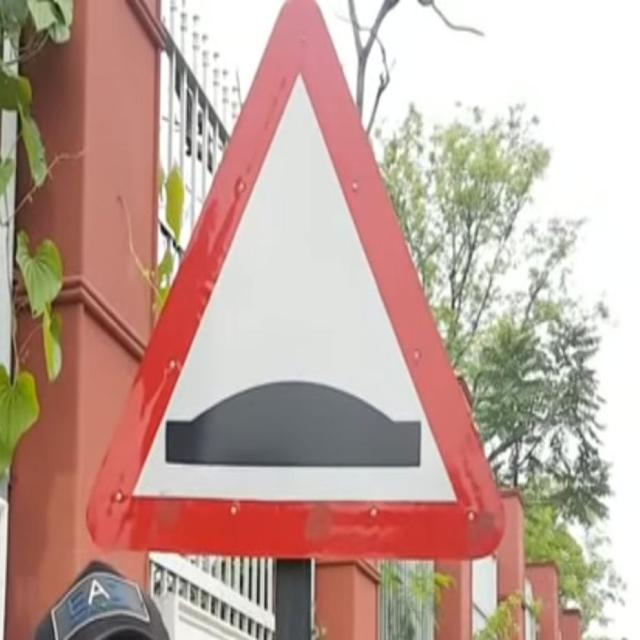Bump: (90, 11, 510, 566)
